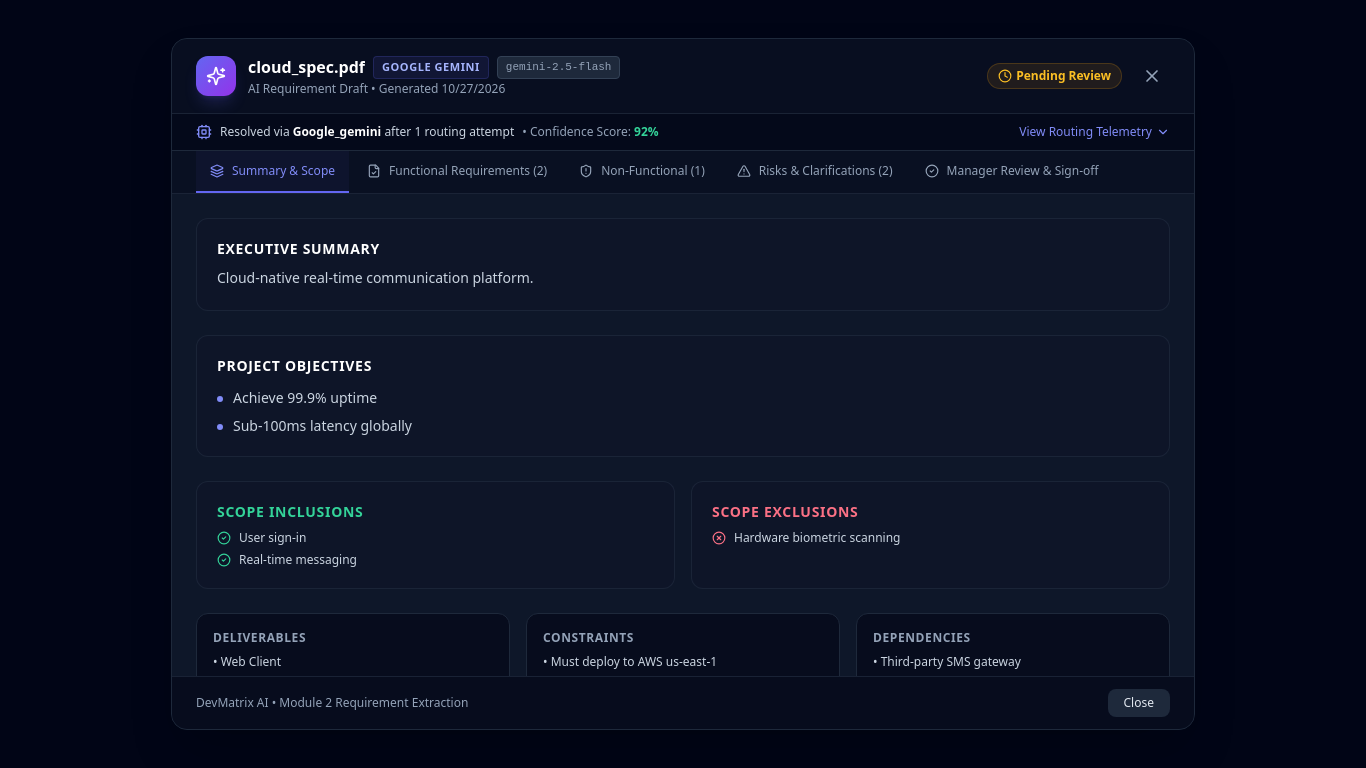
Test: RequirementDraftModal Component › renders functional requirements with provenance and uncertainty verification tags
// Switch to Functional tab
Click the button "Functional Requirements (2)" at (457, 172), box [353,151,561,193]
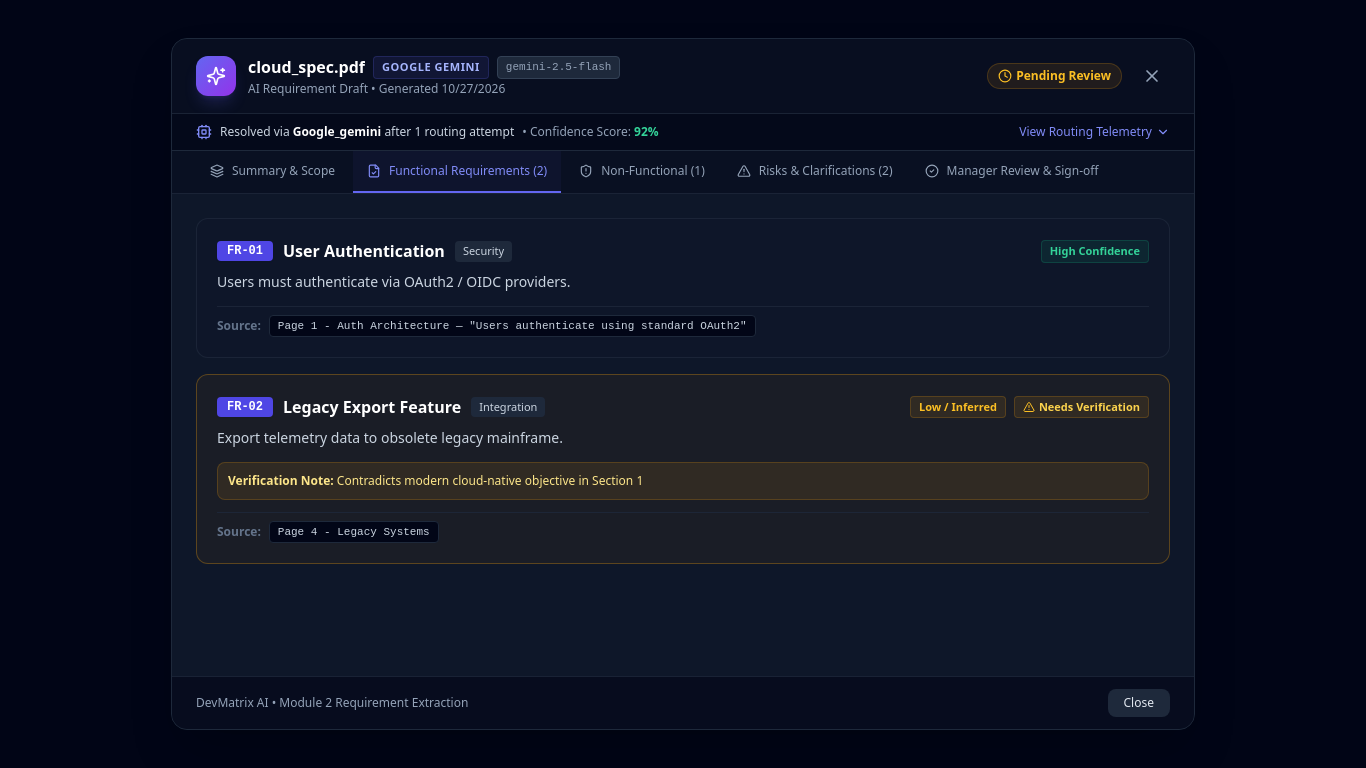
Expected: the text "FR-01" is shown, [217,241,273,261]
Expected: the heading "User Authentication" is shown, [283,239,445,263]
Expected: the text "High Confidence" is shown, [1041,240,1149,263]
